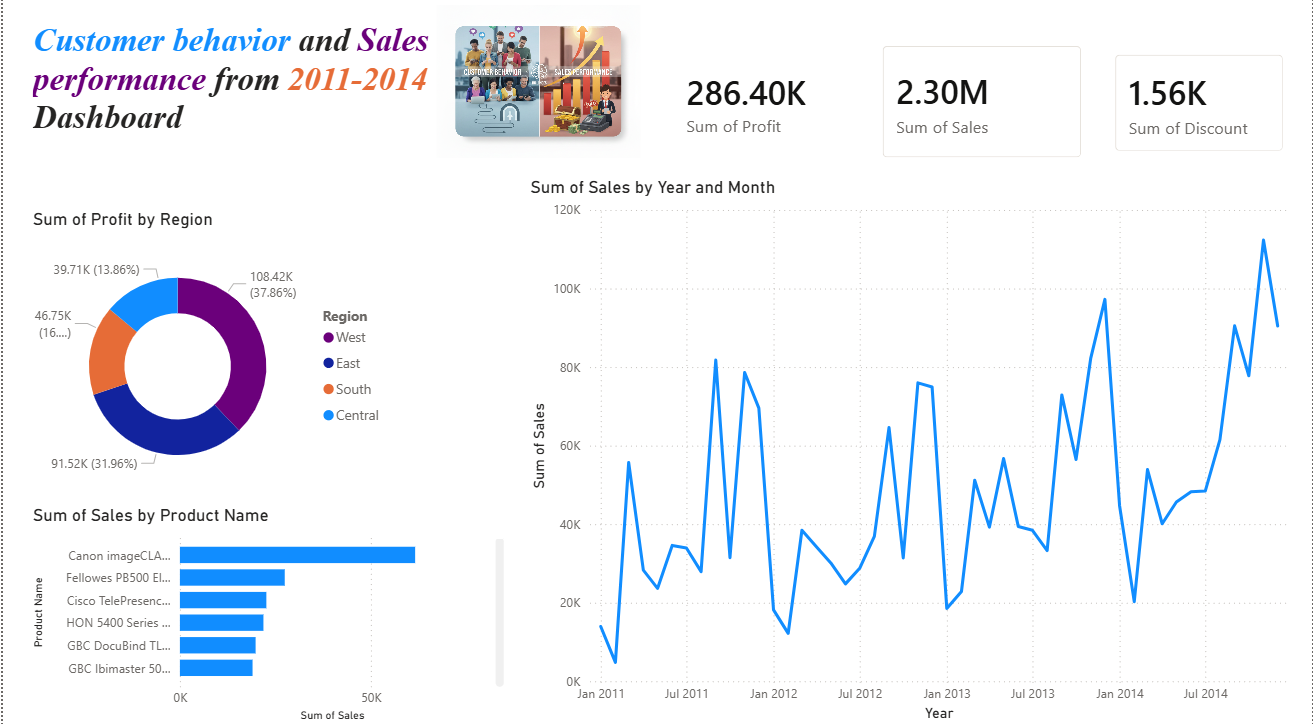

What the dashboard file says about the page in this screenshot:
{"tool":"powerbi","page":{"name":"Page 1","canvas":[1280,720],"ordinal":0},"visuals":[{"type":"cardVisual","fields":{"Data":["Sum(Orders.Profit)"]},"box":[640,47,196.7,128.3],"z":0},{"type":"cardVisual","fields":{"Data":["Sum(Orders.Sales)"]},"box":[843.8,38.5,228.1,144],"z":1000},{"type":"cardVisual","fields":{"Data":["Sum(Orders.Discount)"]},"box":[1071.7,46.7,199,129],"z":2000},{"type":"donutChart","fields":{"Category":["Orders.Region"],"Y":["Sum(Orders.Profit)"]},"box":[24.7,214.1,358.1,289.5],"z":3000},{"type":"barChart","fields":{"Category":["Orders.Product Name"],"Y":["Sum(Orders.Sales)"]},"box":[24.7,503.6,470.7,216.8],"z":5000},{"type":"textbox","box":[24.2,25.7,400.5,149.7],"z":6000},{"type":"image","box":[424.8,14.3,199.6,149.7],"z":7000},{"type":"lineChart","fields":{"Y":["Sum(Orders.Sales)"],"Category":["Orders.Order Date.Variation.Date Hierarchy.Year","Orders.Order Date.Variation.Date Hierarchy.Month"]},"box":[511.1,182.2,763,538],"z":7001}]}

Visuals, with their boxes in screenshot pixels (x1, y1, x2, y2), scaled from the page's 1280x720 canvas onto the 1313x724 screenshot:
cardVisual - Sum(Orders.Profit): [left=656, top=47, right=858, bottom=176]
cardVisual - Sum(Orders.Sales): [left=866, top=39, right=1100, bottom=184]
cardVisual - Sum(Orders.Discount): [left=1099, top=47, right=1303, bottom=177]
donutChart - Orders.Region x Sum(Orders.Profit): [left=25, top=215, right=393, bottom=506]
barChart - Orders.Product Name x Sum(Orders.Sales): [left=25, top=506, right=508, bottom=723]
textbox: [left=25, top=26, right=436, bottom=176]
image: [left=436, top=14, right=640, bottom=165]
lineChart - Sum(Orders.Sales) x Orders.Order Date.Variation.Date Hierarchy.Year: [left=524, top=183, right=1307, bottom=723]
